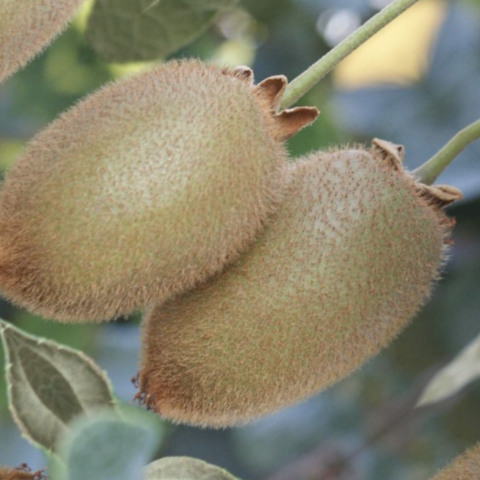kiwi: (73, 86, 480, 480), (0, 0, 366, 397)
